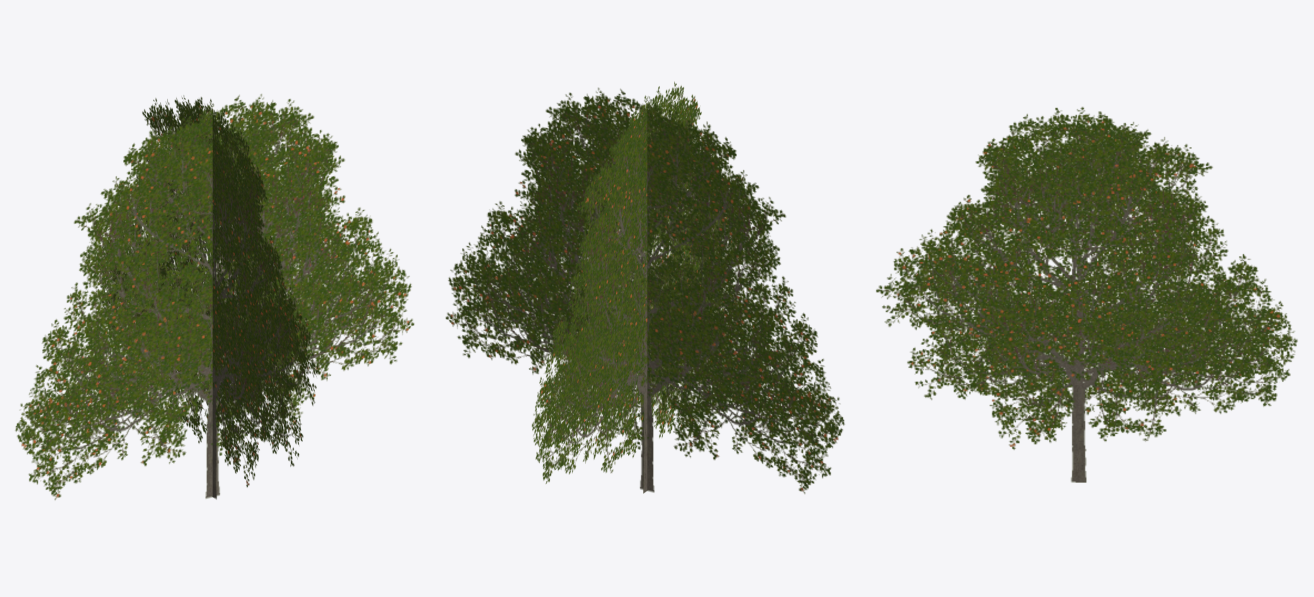
File: PrunusArmeniaca.glb
The picture shows the model from 3 angles, left to right: view 1: azimuth 30°, elevation 25°; view 2: azimuth 150°, elevation 25°; view 3: azimuth 270°, elevation 25°; orthographic projection. The views are drawn at different scales.
Parts seen in each view (by area): view 1: mesh__mat_billboard_6; view 2: mesh__mat_billboard_6; view 3: mesh__mat_billboard_6.
Boxes of the visible parts, x1,y1,x2,y2 form: mesh__mat_billboard_6: (15,94,414,499); mesh__mat_billboard_6: (445,81,844,493); mesh__mat_billboard_6: (876,107,1297,482).
Bounding box in the file's own units: 9.62 × 9.27 × 9.31.
1 material, 1 textured.
